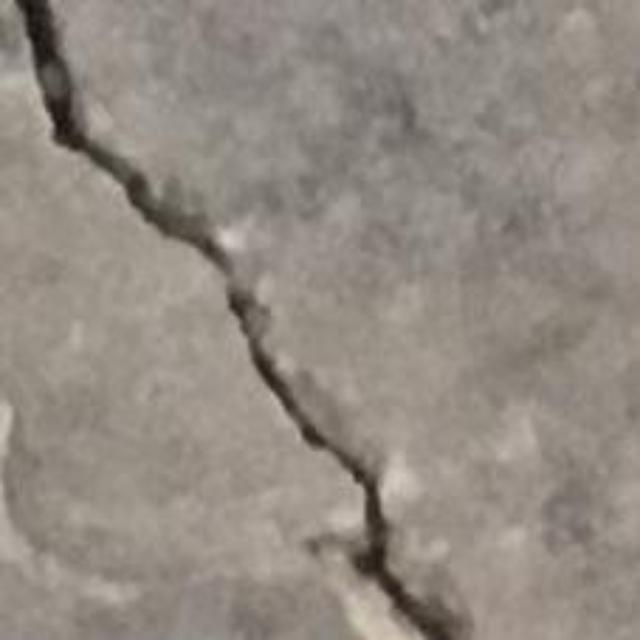crack: (12, 0, 470, 639)
